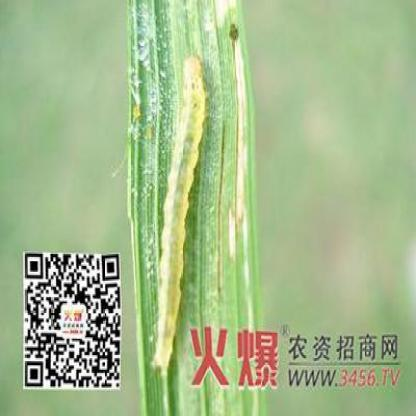leaf-folder: (154, 35, 212, 314)
